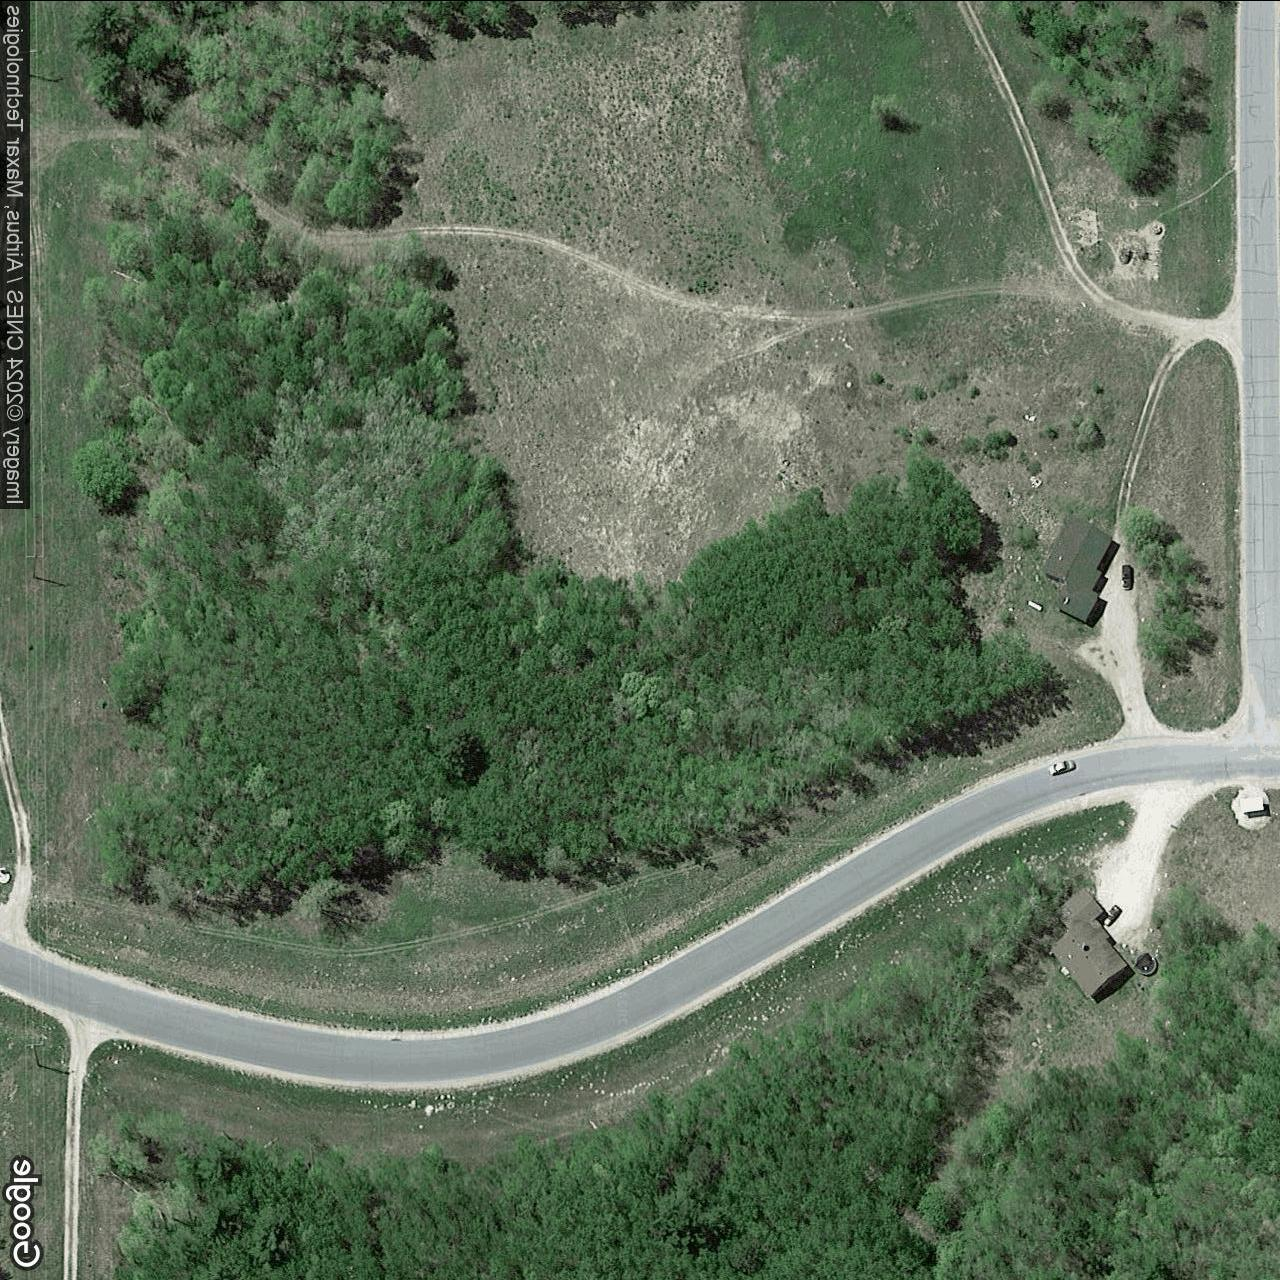House: (1047, 885, 1129, 998), (1043, 513, 1116, 624)
Propane: (1026, 597, 1046, 612)
